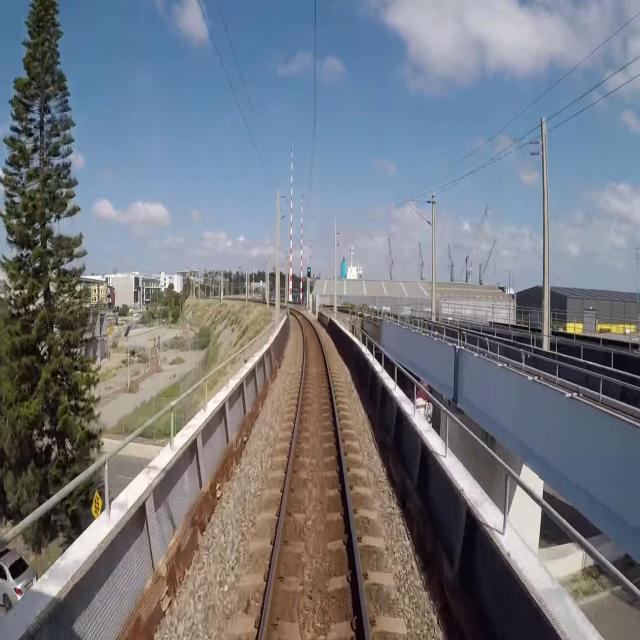rail-track: (262, 312, 366, 639)
